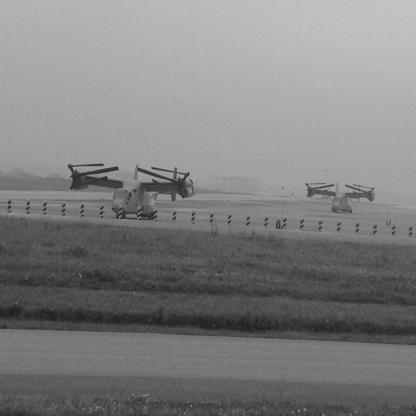V22: (69, 164, 196, 220), (306, 183, 376, 214)
